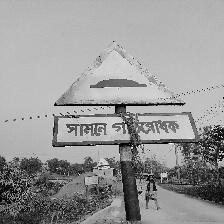Speed-breaker: (52, 41, 195, 144)
